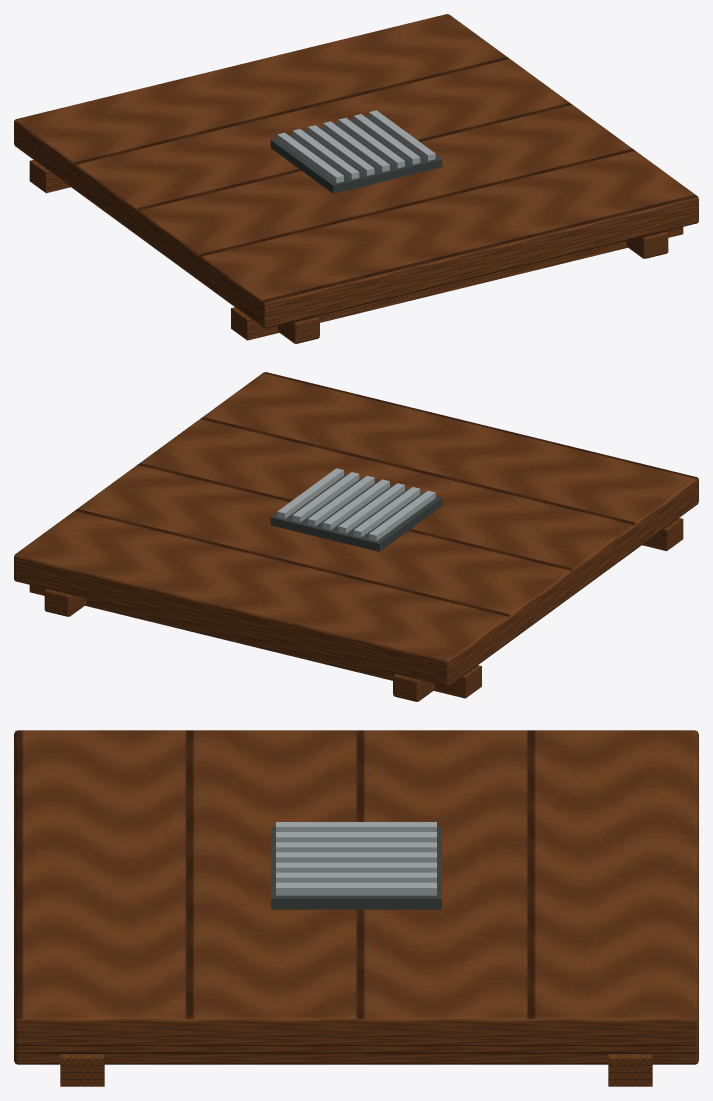
The model's file is modular-survival-base-builder-floor-drain-bay-71cafb4f__24150.glb.
3 views of the same model, one above another, from view 1: azimuth 30°, elevation 25°; view 2: azimuth 150°, elevation 25°; view 3: azimuth 270°, elevation 25° (orthographic). The views are drawn at different scales.
Parts seen in each view (by area): view 1: floor-drain-bay; view 2: floor-drain-bay; view 3: floor-drain-bay.
Part boxes in pixels (x1,y1,x2,y2): floor-drain-bay: (14,14,698,343); floor-drain-bay: (14,372,698,701); floor-drain-bay: (14,730,698,1086).
Bounding box in the file's own units: 2 × 0.28 × 2.
3 materials, 1 textured.
